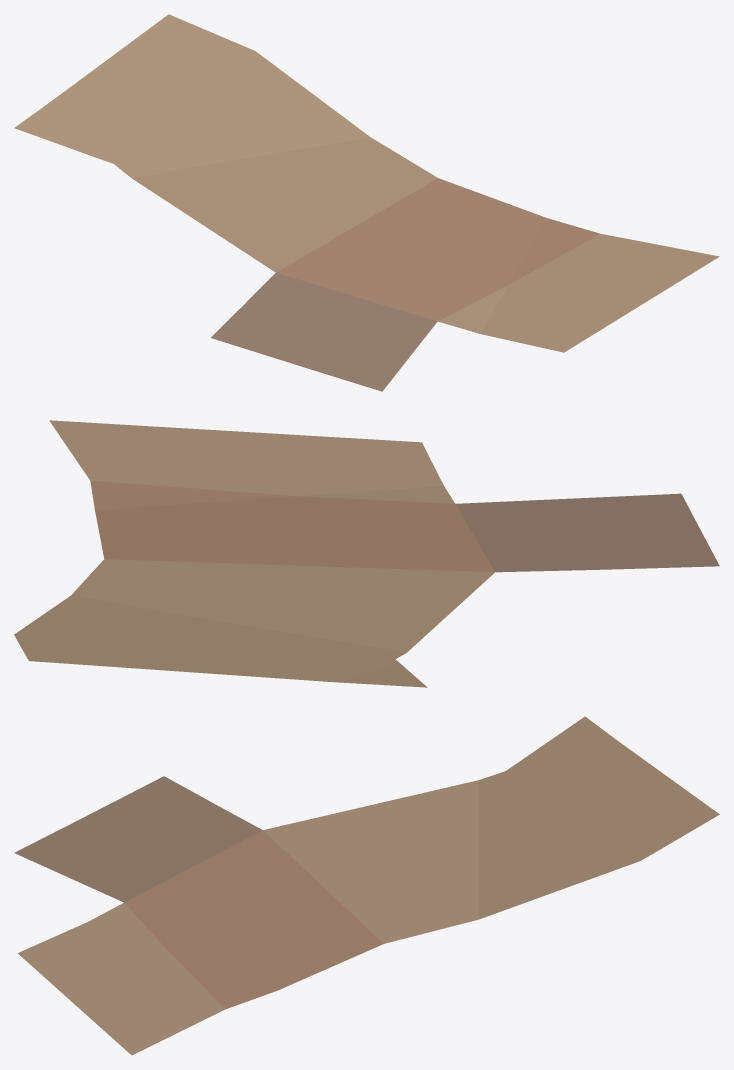
Rendered from farm_-40_-44_soil.glb.
3 views of the same model, one above another, from view 1: azimuth 30°, elevation 25°; view 2: azimuth 150°, elevation 25°; view 3: azimuth 270°, elevation 25° (orthographic). The views are drawn at different scales.
Visible parts, largest first — view 1: geometry_0; view 2: geometry_0; view 3: geometry_0.
Boxes of the visible parts, x1,y1,x2,y2 form: geometry_0: (14, 14, 719, 391); geometry_0: (14, 420, 719, 687); geometry_0: (14, 716, 719, 1055).
Bounding box in the file's own units: 78.93 × 16.08 × 93.96.
